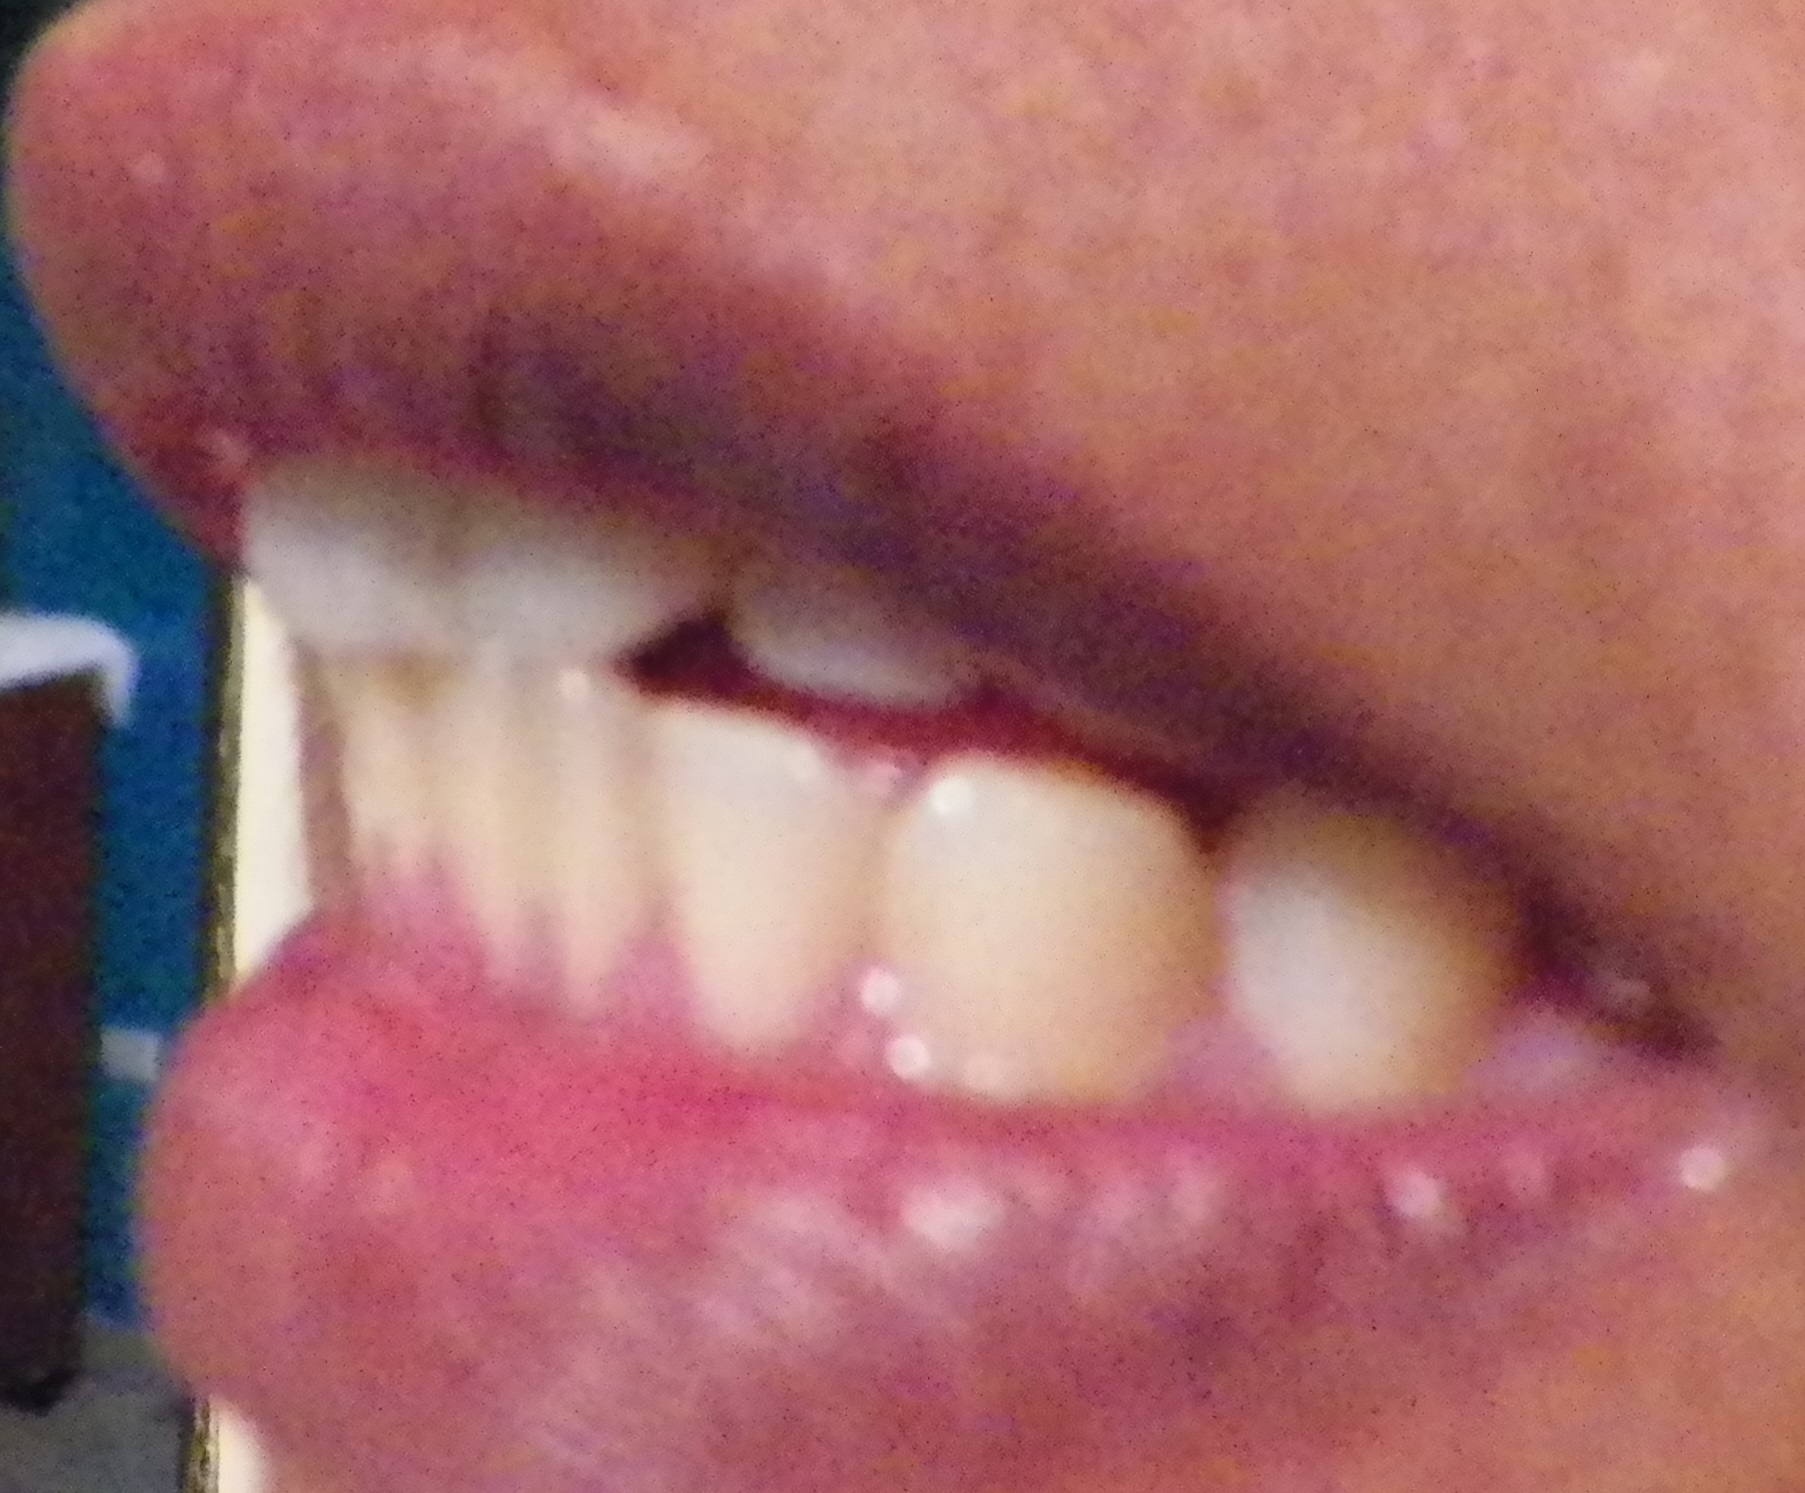boca: (219, 486, 1535, 1067)
